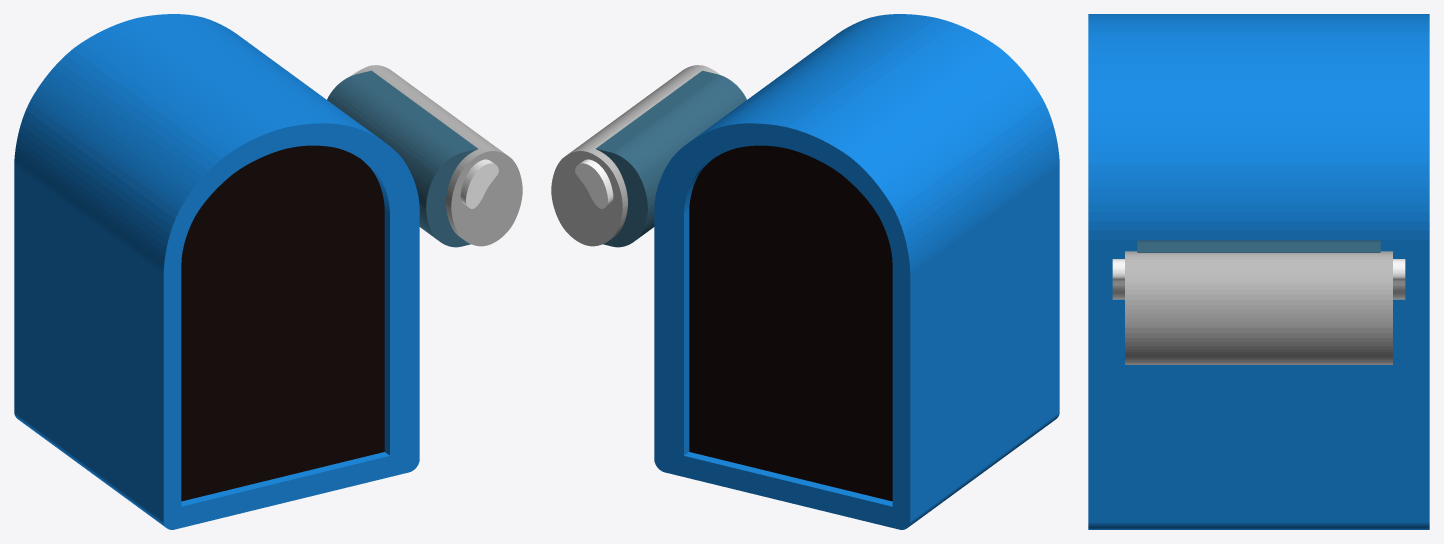
The picture shows the model from 3 angles, left to right: view 1: azimuth 30°, elevation 25°; view 2: azimuth 150°, elevation 25°; view 3: azimuth 270°, elevation 25°; orthographic projection. The views are drawn at different scales.
Visible parts, largest first — view 1: U+1F4ED_layer04_obj00, U+1F4ED_layer03_obj00, U+1F4ED_layer00_obj00, U+1F4ED_layer01_obj00, U+1F4ED_layer02_obj00; view 2: U+1F4ED_layer04_obj00, U+1F4ED_layer03_obj00, U+1F4ED_layer00_obj00, U+1F4ED_layer01_obj00, U+1F4ED_layer02_obj00; view 3: U+1F4ED_layer04_obj00, U+1F4ED_layer01_obj00, U+1F4ED_layer00_obj00, U+1F4ED_layer02_obj00.
Part boxes in pixels (left/top/right/bottom): U+1F4ED_layer04_obj00: left=14, top=14, right=419, bottom=529; U+1F4ED_layer03_obj00: left=181, top=145, right=384, bottom=501; U+1F4ED_layer00_obj00: left=327, top=70, right=477, bottom=247; U+1F4ED_layer01_obj00: left=354, top=65, right=522, bottom=246; U+1F4ED_layer02_obj00: left=351, top=70, right=498, bottom=208; U+1F4ED_layer04_obj00: left=654, top=14, right=1059, bottom=529; U+1F4ED_layer03_obj00: left=689, top=145, right=892, bottom=501; U+1F4ED_layer00_obj00: left=596, top=70, right=746, bottom=247; U+1F4ED_layer01_obj00: left=551, top=65, right=719, bottom=246; U+1F4ED_layer02_obj00: left=575, top=70, right=722, bottom=208; U+1F4ED_layer04_obj00: left=1088, top=14, right=1429, bottom=529; U+1F4ED_layer01_obj00: left=1125, top=251, right=1392, bottom=364; U+1F4ED_layer00_obj00: left=1137, top=240, right=1380, bottom=252; U+1F4ED_layer02_obj00: left=1112, top=259, right=1405, bottom=299.
Size of the model in its own units: 0.2029 by 0.1938 by 0.14.
